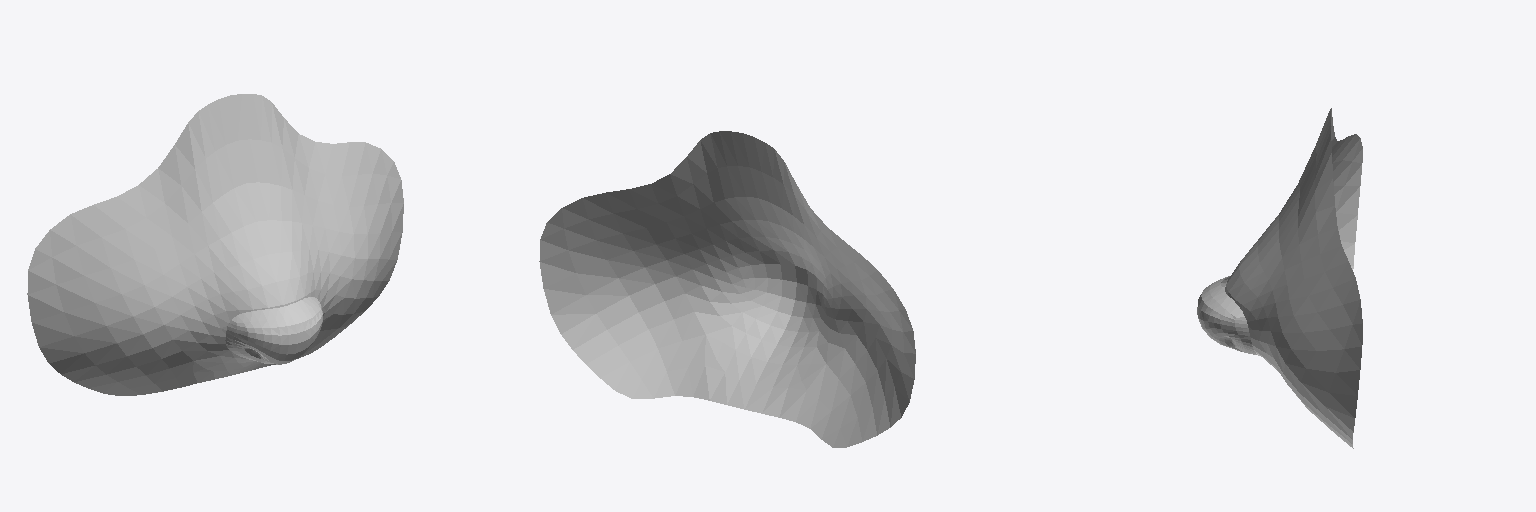
Rendered from nose.obj.
3 views of the same model, side by side, from view 1: azimuth 30°, elevation 25°; view 2: azimuth 150°, elevation 25°; view 3: azimuth 270°, elevation 25° (orthographic).
Parts seen in each view (by area): view 1: asset fur_mesh, nose_mesh asset; view 2: asset fur_mesh; view 3: asset fur_mesh, nose_mesh asset.
Part boxes in pixels (x1,y1,x2,y2): asset fur_mesh: (27, 94, 403, 395); nose_mesh asset: (225, 297, 322, 364); asset fur_mesh: (539, 131, 915, 447); asset fur_mesh: (1225, 108, 1362, 448); nose_mesh asset: (1197, 276, 1259, 355).
Bounding box in the file's own units: 0.078 × 0.0561 × 0.0297.